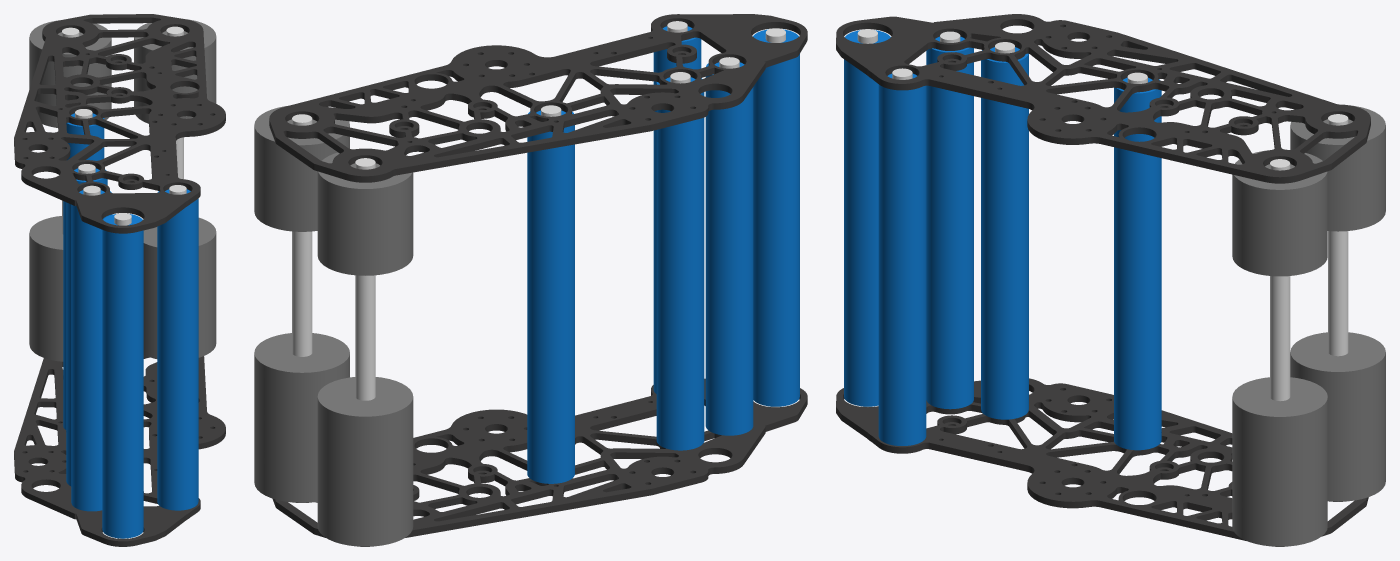
3 renders of one model, left to right at view 1: azimuth 30°, elevation 25°; view 2: azimuth 150°, elevation 25°; view 3: azimuth 270°, elevation 25°, orthographic. The views are drawn at different scales.
Parts seen in each view (by area): view 1: Simple Shooter 5516 off-season FRC, ??3.0 Left (×2); view 2: Simple Shooter 5516 off-season FRC, ??3.0 Left (×2); view 3: Simple Shooter 5516 off-season FRC, ??3.0 Left (×2).
Part boxes in pixels (box(x1,y1,x2,y2)): Simple Shooter 5516 off-season FRC: box(29, 19, 216, 538); ??3.0 Left (×2): box(14, 14, 225, 546); Simple Shooter 5516 off-season FRC: box(254, 21, 799, 546); ??3.0 Left (×2): box(269, 14, 807, 546); Simple Shooter 5516 off-season FRC: box(844, 29, 1385, 546); ??3.0 Left (×2): box(836, 14, 1370, 546).
Size of the model in its own units: 0.3362 by 0.342 by 0.4608.
